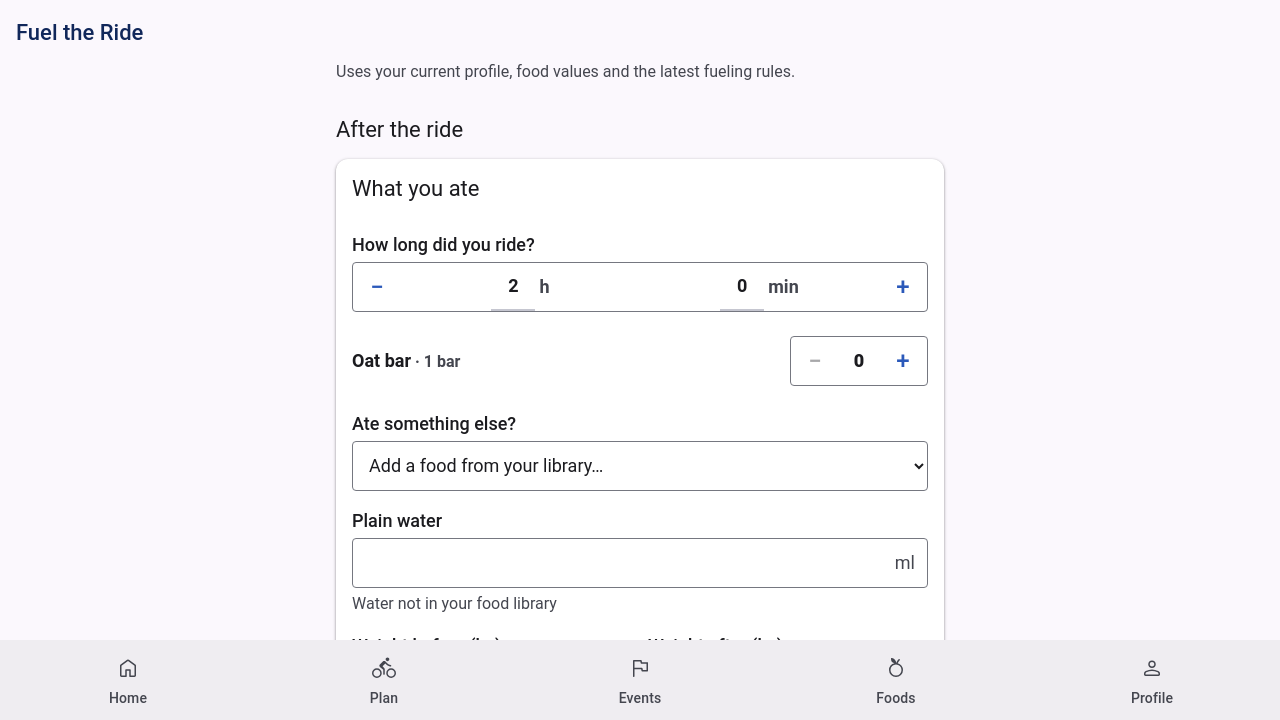
it: log what you ate › − / + in half servings, plus a food that was not in the plan
The image size is (1280, 720).
(page scrolled)
Click the button named "More Oat bar": (903, 360) [879,336,927,384]
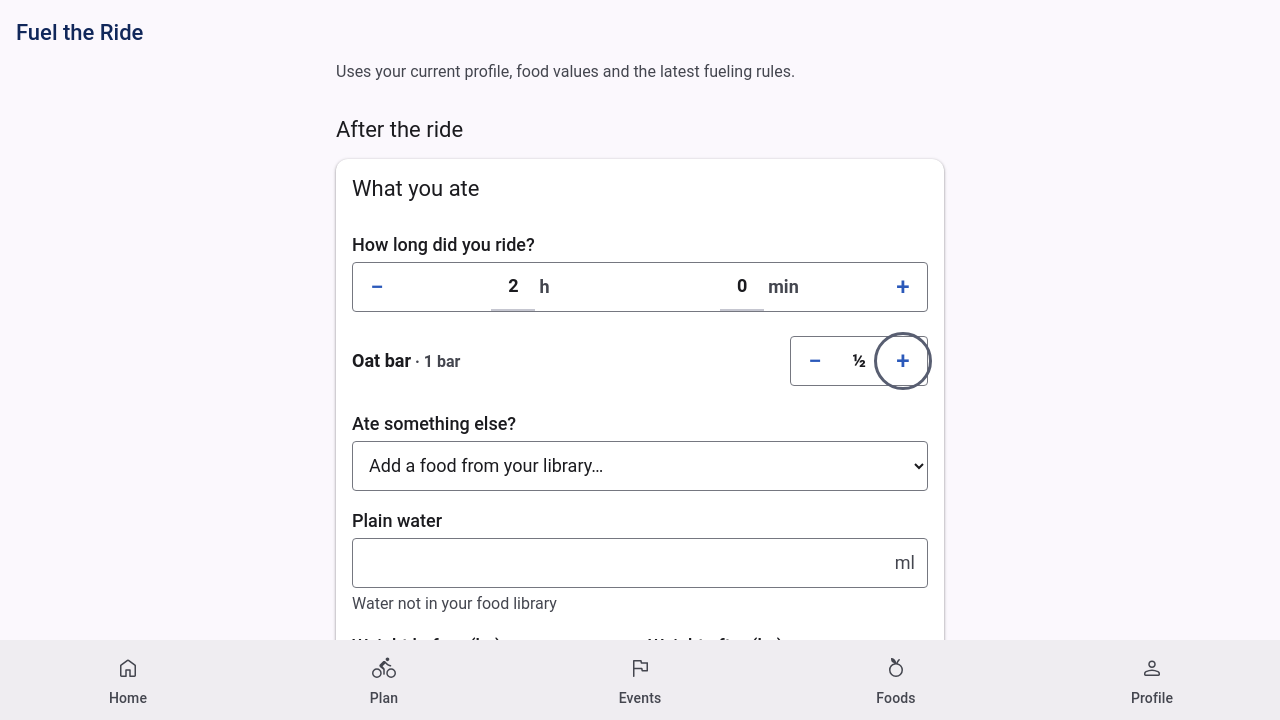
Click the button named "More Oat bar": (903, 360) [879,336,927,384]
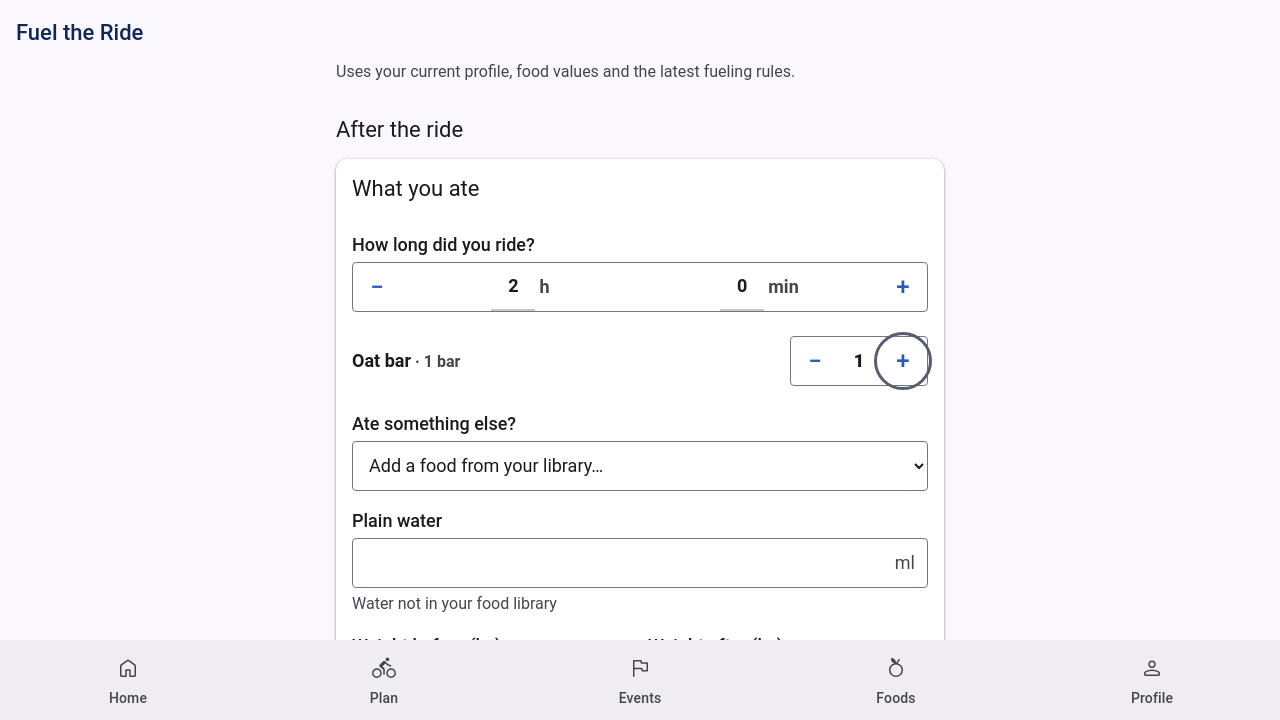
Click the button named "More Oat bar": (903, 360) [879,336,927,384]
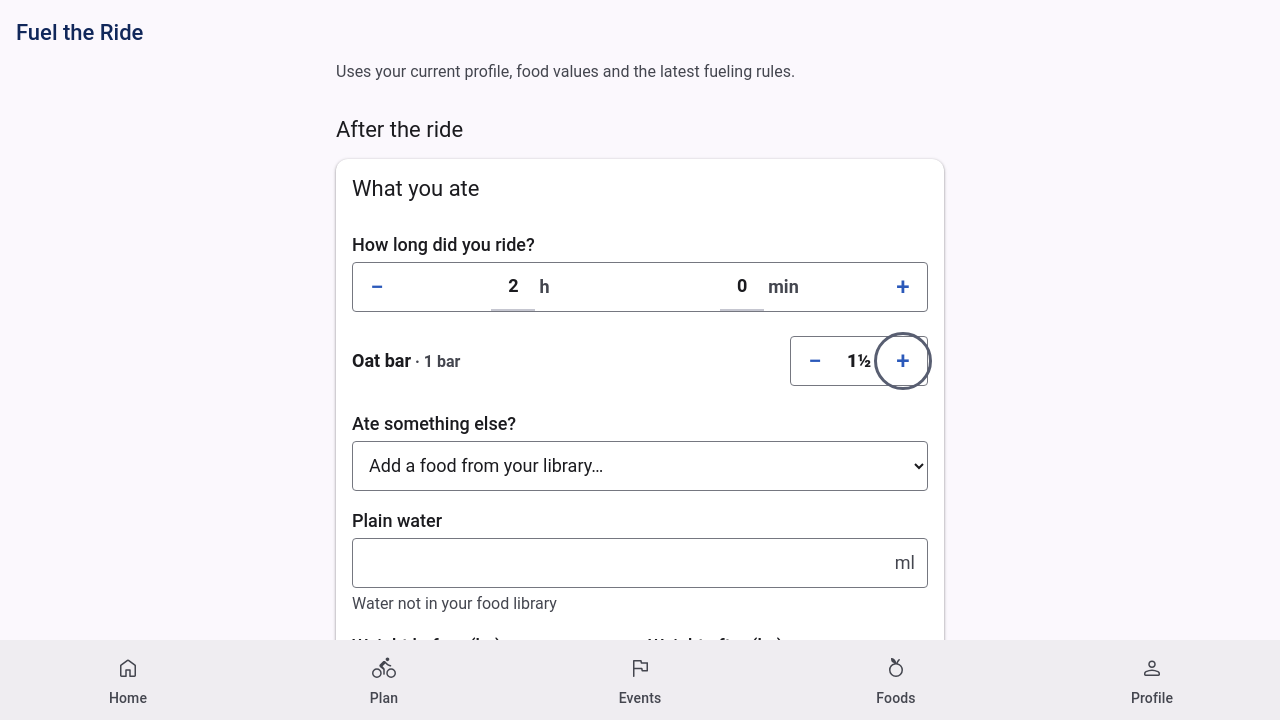
Check: the text named "Oat bar servings" reads "1½", box [847,350,871,371]
Select "Energy gel" in the dropdown labelled "Ate something else?": (640, 466) [353,442,927,490]
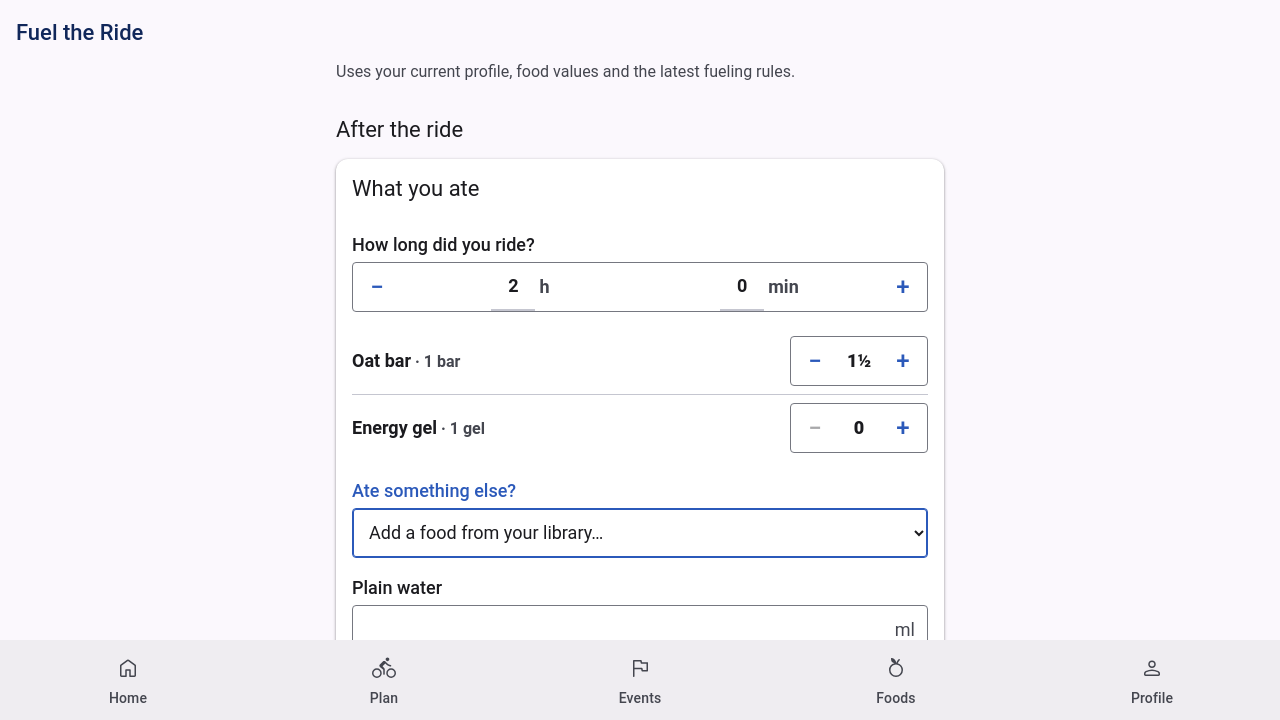
Click the button named "More Energy gel": (903, 428) [879,404,927,452]
(page scrolled)
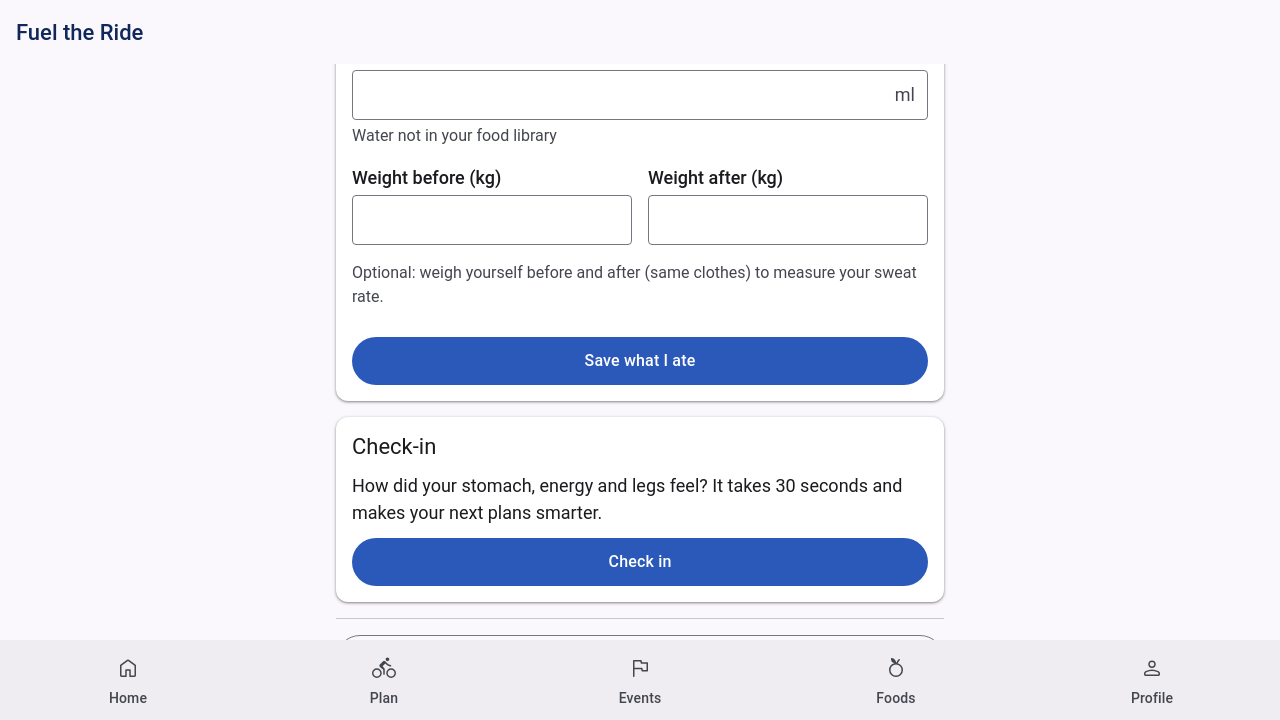
Click the button "Save what I ate": (640, 360) [352,336,928,384]
(page scrolled)
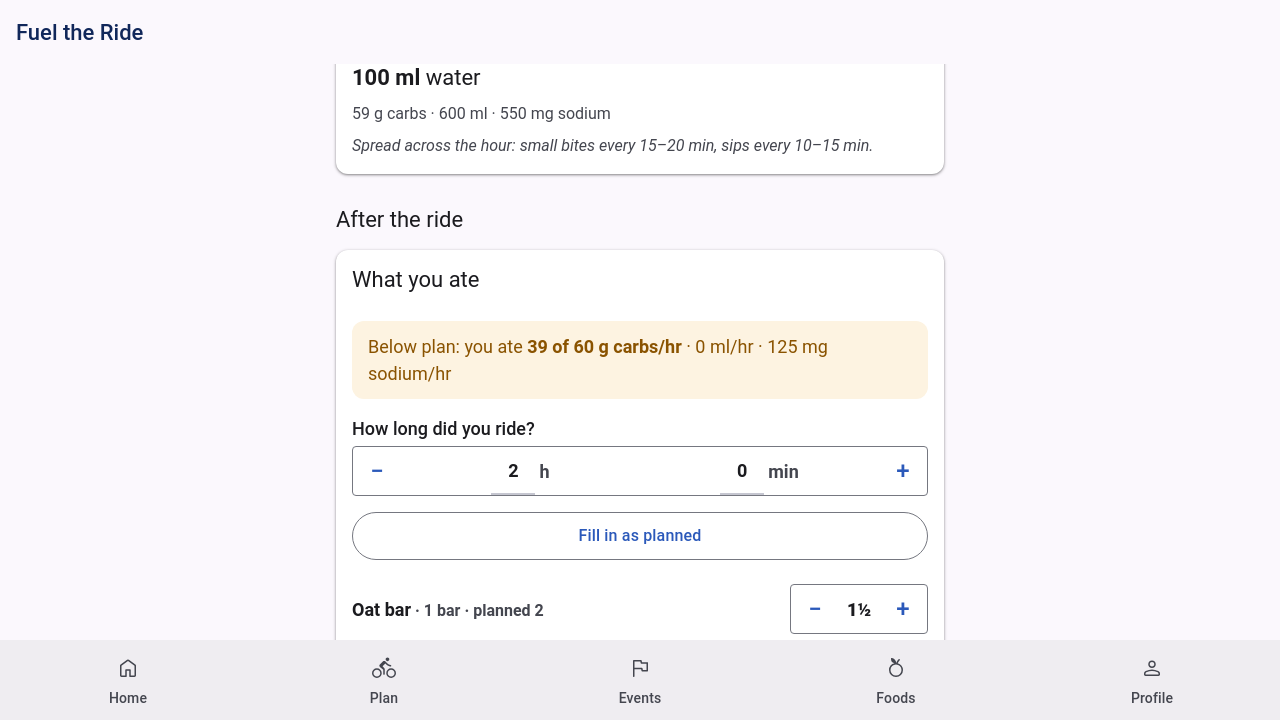
Check: the text "Below plan: you ate 39 of 60 g carbs/hr · 0 ml/hr · 125 mg sodium/hr" is shown, box [352,321,928,399]
